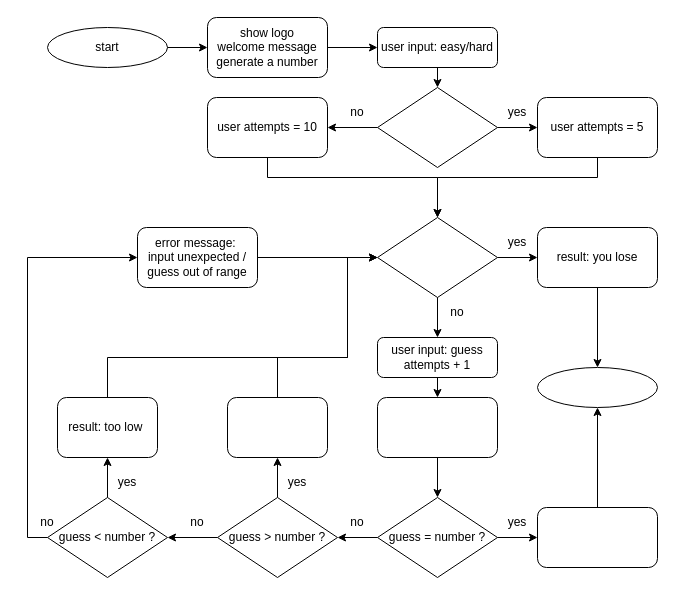
Image size: 675x595. Some labels were removed from this diagram. The shapes that lost their labels are listed below. From the top down, each one's box as (x1, y1, x2, y2) in pixels, then its label:
(376, 86, 498, 168): user choose hard ?
(376, 216, 498, 298): run out of attempts ?
(536, 366, 658, 408): end
(226, 396, 328, 458): result: too high
(376, 396, 498, 458): display attempts current guess
(536, 506, 658, 568): result: you win
